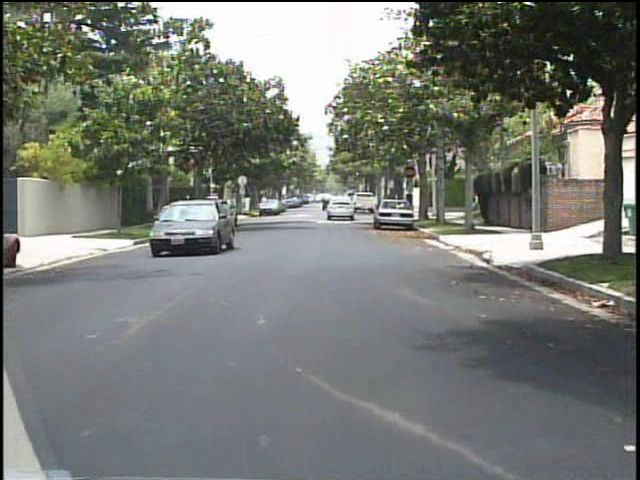person: (523, 183, 542, 238), (170, 194, 186, 230)
